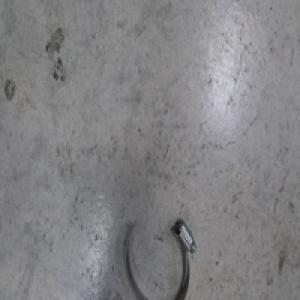AdjustableClamp: (123, 217, 197, 300)
